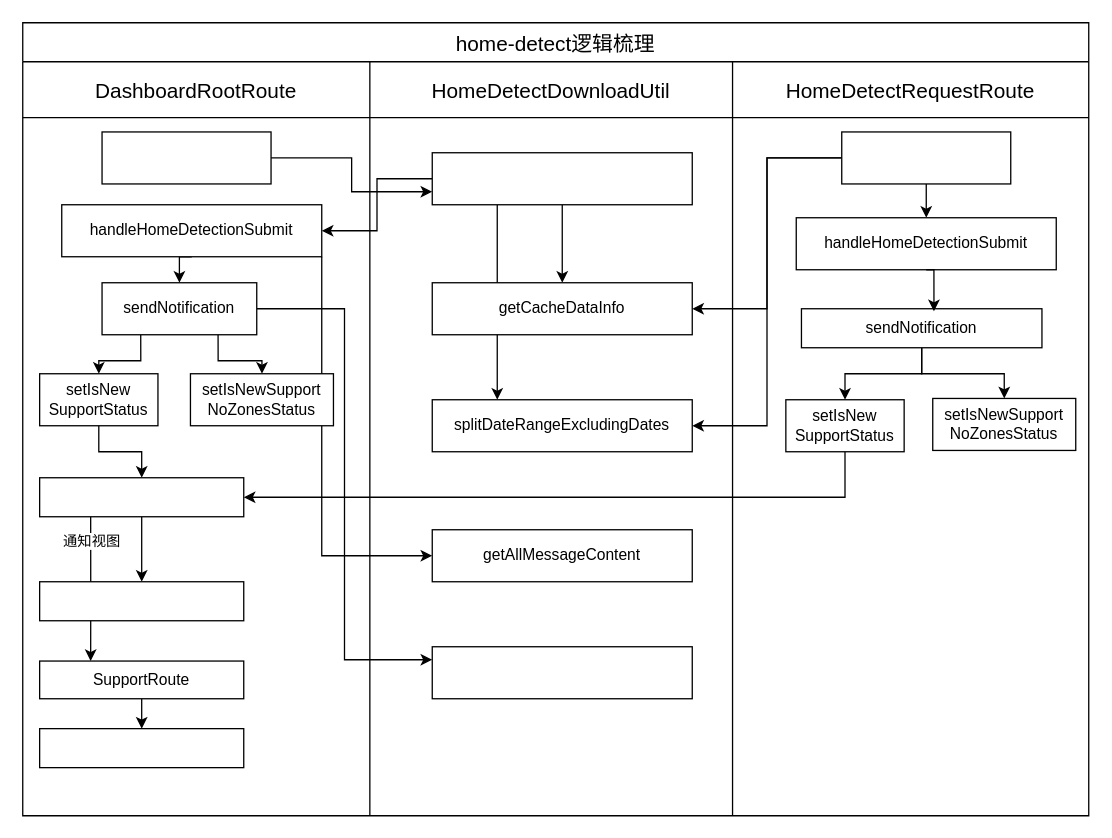
Some shapes in this 1112 by 838 pixel diagram are drawn without their labels. The centre of each missing label's shape, as x and y in pixels:
"download" goes at point 925,157.
"downLoadHomeDetectFiles" goes at point 561,178.
"getSupportTypeFromType" goes at point 561,672.
"start" goes at point 186,157.
"SupportMode" goes at point 141,600.
"useSupportQuery,组装数据" goes at point 141,496.
"根据home-detect-type 展示show dif UI" goes at point 141,747.
